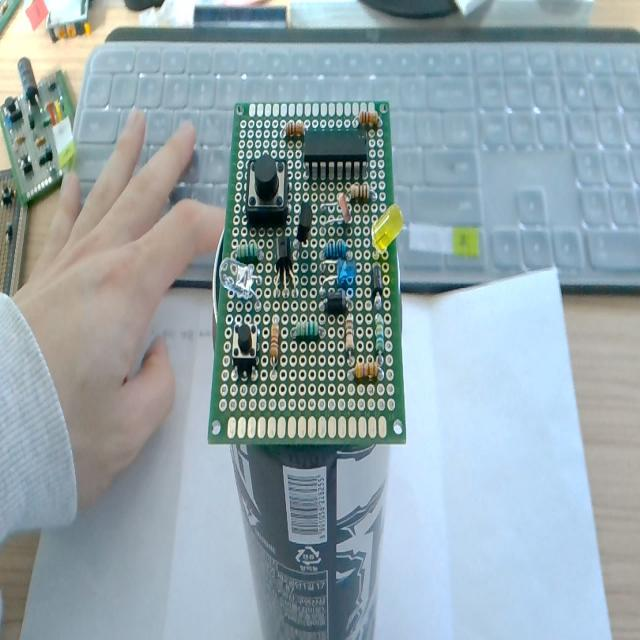IC: (303, 130, 367, 181)
cds: (321, 190, 353, 226)
diode: (370, 256, 386, 309), (319, 289, 352, 312)
led: (218, 256, 262, 302), (373, 203, 404, 254), (322, 254, 357, 288)
resistor: (234, 241, 263, 264), (322, 239, 348, 260), (354, 359, 376, 382), (294, 320, 318, 340), (270, 319, 280, 362), (350, 182, 369, 202), (375, 314, 384, 356), (359, 110, 379, 128), (345, 315, 354, 353), (286, 120, 304, 138)
switch: (246, 155, 288, 227), (232, 323, 259, 379)
transistor: (274, 232, 294, 296), (296, 200, 312, 242)
